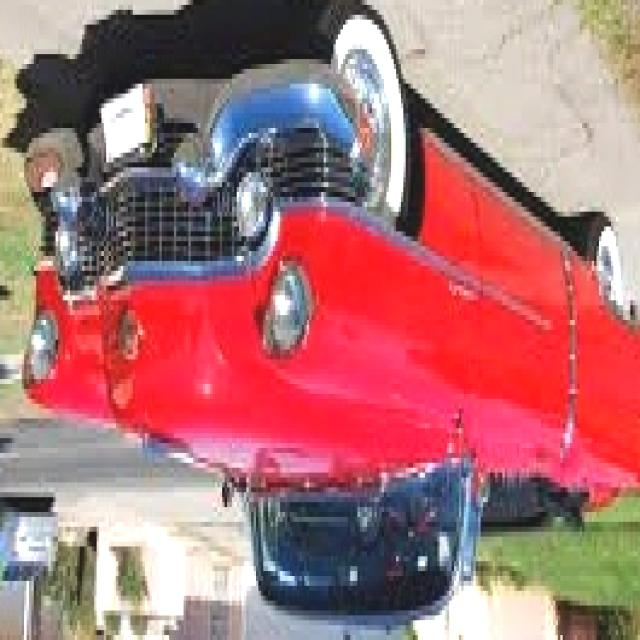red: (15, 117, 640, 604)
